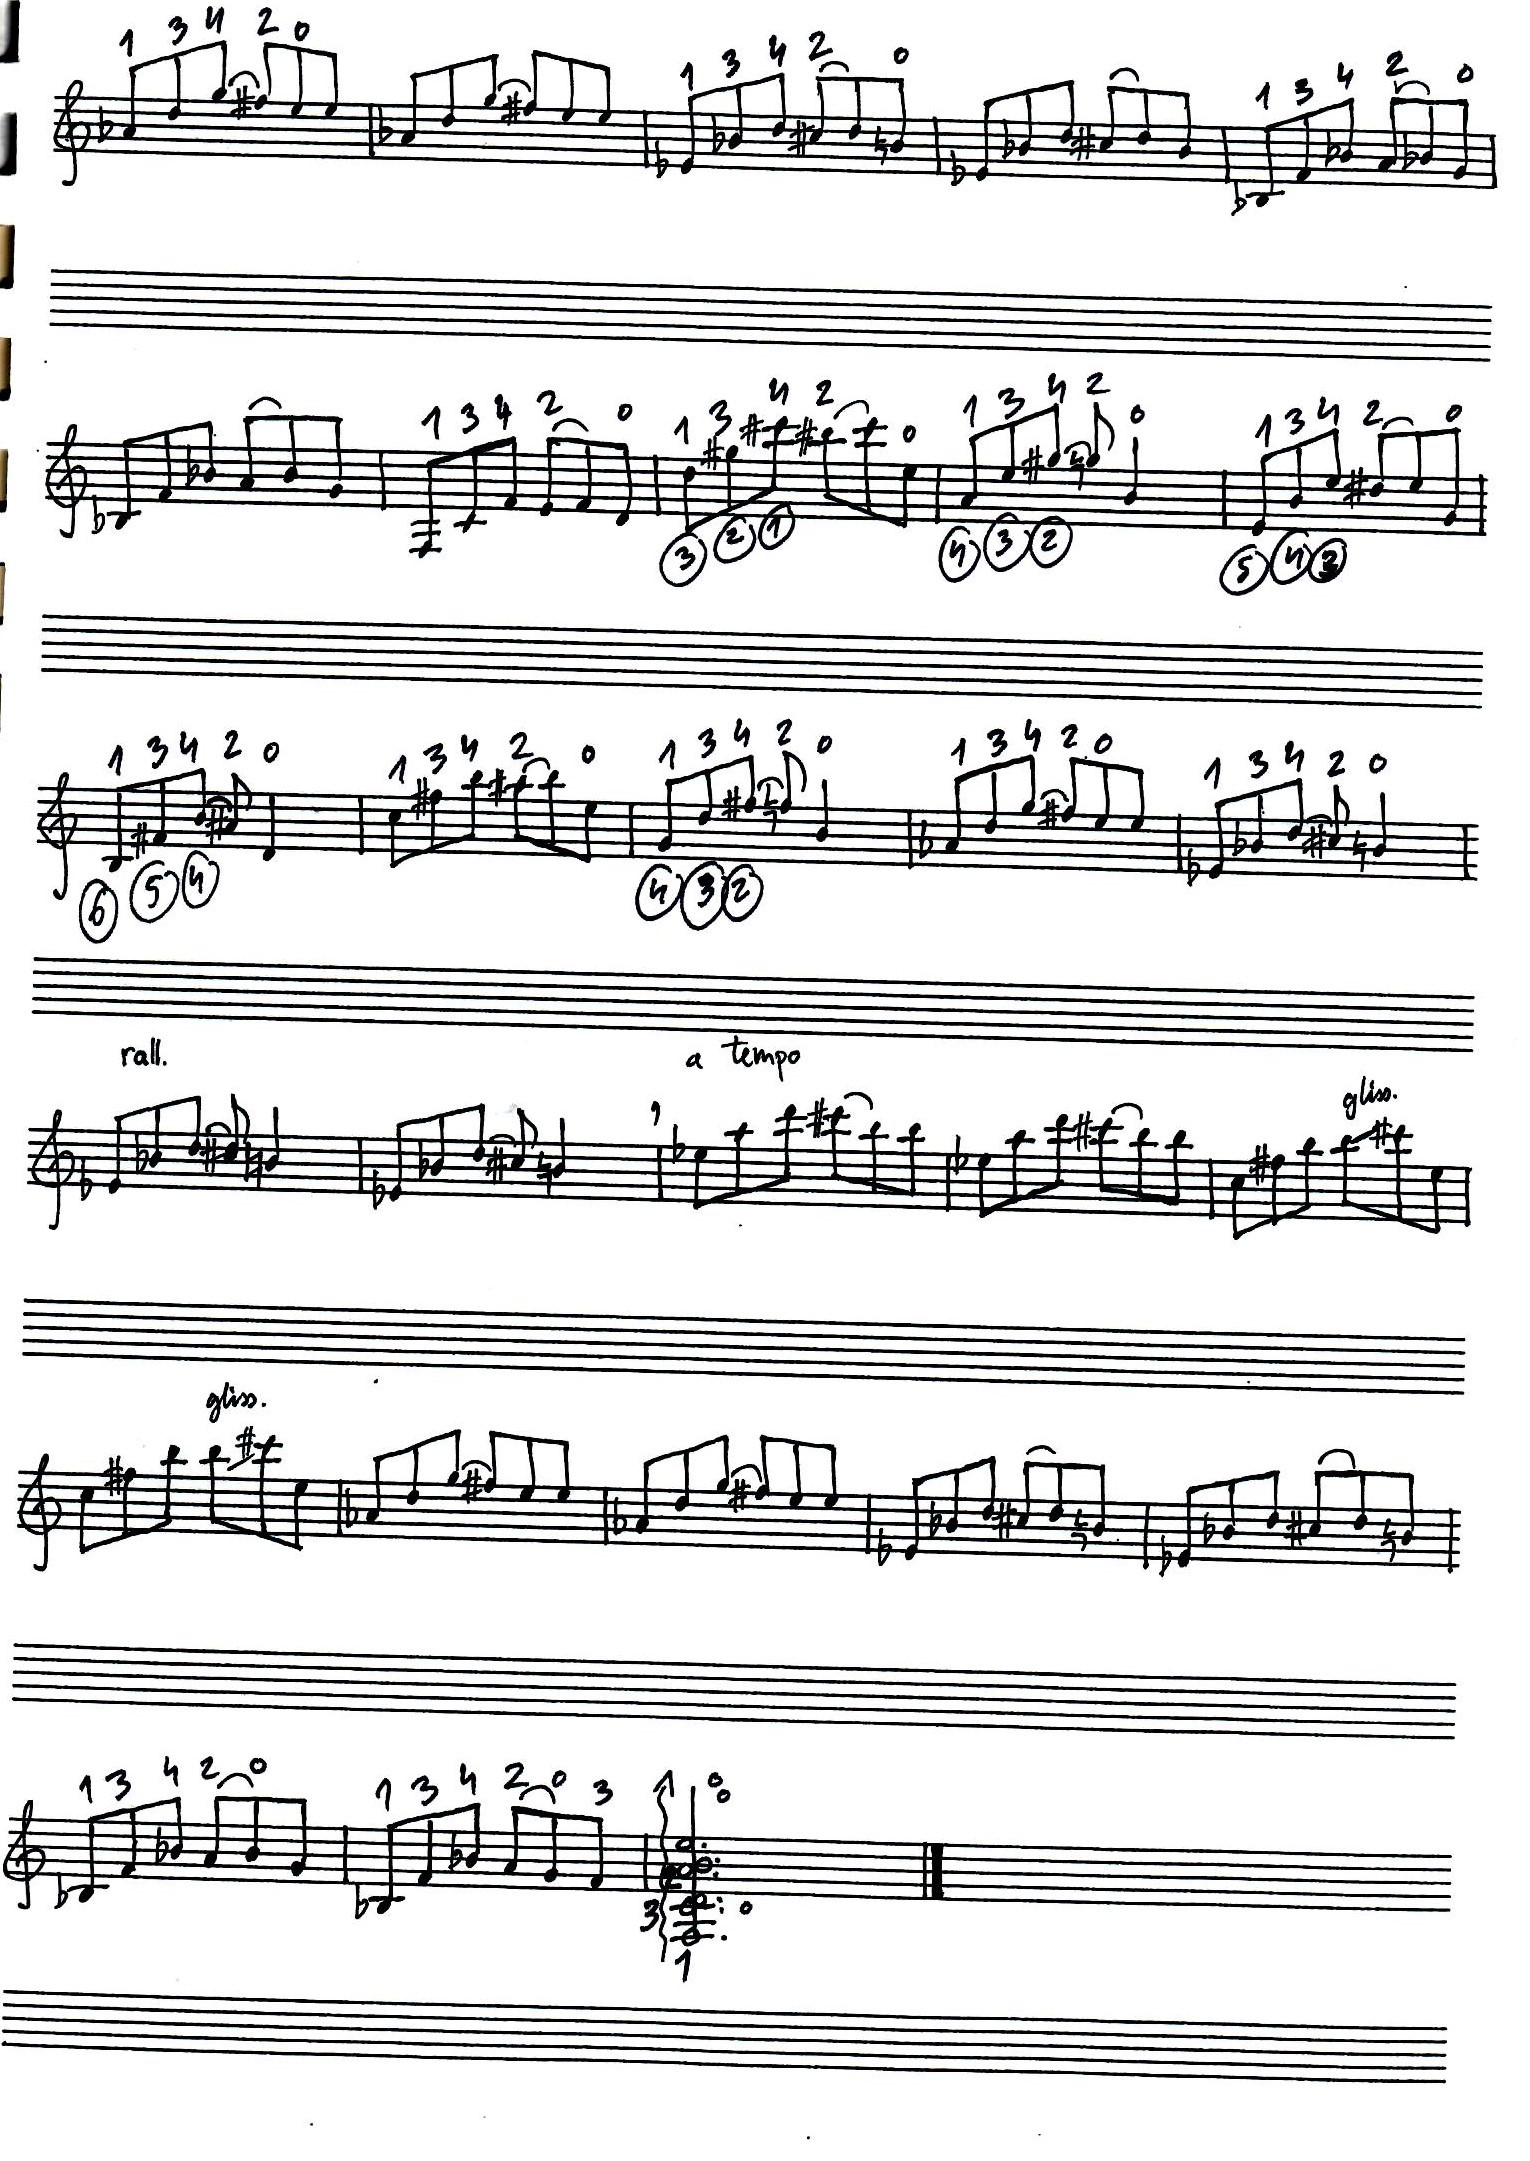Barline: (351, 1136, 369, 1199), (1167, 815, 1187, 869), (1459, 1166, 1475, 1229), (354, 790, 369, 859), (929, 116, 945, 177), (1459, 821, 1475, 883), (932, 464, 947, 530), (1204, 1156, 1219, 1222), (941, 1149, 954, 1215), (376, 450, 391, 508), (904, 805, 916, 878), (1219, 465, 1232, 528), (652, 454, 666, 515), (1220, 124, 1234, 184), (1477, 470, 1489, 538), (626, 795, 637, 859), (654, 1143, 666, 1202), (599, 1484, 609, 1553), (1447, 1500, 1455, 1581), (641, 108, 651, 171), (917, 1841, 927, 1903), (1143, 1504, 1151, 1571), (642, 1833, 651, 1894), (864, 1489, 871, 1558), (343, 1823, 349, 1888), (366, 103, 373, 161), (334, 1470, 339, 1545)
Beam: (1341, 1196, 1446, 1239), (686, 489, 778, 533), (127, 38, 232, 76), (825, 492, 907, 538), (977, 1179, 1066, 1219), (111, 767, 210, 801), (692, 1174, 790, 1209), (1230, 1202, 1318, 1240), (1262, 426, 1345, 465), (426, 434, 520, 469), (664, 752, 753, 788), (687, 73, 788, 104), (1210, 778, 1311, 810), (969, 406, 1058, 440), (391, 833, 475, 869), (513, 836, 598, 873), (1270, 98, 1354, 132), (982, 79, 1080, 109), (828, 1174, 917, 1206), (111, 1093, 199, 1124), (124, 416, 215, 445), (1091, 1182, 1187, 1210), (532, 51, 611, 84), (409, 53, 497, 83), (260, 38, 343, 70), (1065, 757, 1156, 783), (952, 753, 1037, 782), (396, 1103, 490, 1128), (242, 411, 349, 426), (543, 436, 633, 452), (811, 75, 911, 88), (1378, 427, 1464, 440), (1386, 96, 1474, 108), (1109, 88, 1192, 99)
Chord: (671, 1787, 710, 1952)
Dot: (715, 1898, 724, 1904), (719, 1908, 725, 1914), (714, 1871, 719, 1879), (720, 1936, 729, 1941), (700, 1843, 707, 1848), (715, 1858, 720, 1861)
Eighth-Note: (416, 457, 437, 560), (378, 1822, 401, 1916), (78, 1817, 103, 1904), (114, 436, 136, 530), (1086, 401, 1116, 469), (1444, 426, 1464, 525), (220, 1093, 248, 1162), (1177, 1482, 1199, 1571), (512, 1105, 540, 1172), (1255, 124, 1278, 205), (902, 1469, 922, 1563), (778, 750, 806, 816), (260, 1432, 277, 1542), (674, 1441, 699, 1514), (460, 444, 480, 533), (108, 785, 127, 874), (204, 1442, 224, 1530), (225, 772, 253, 833), (1454, 94, 1474, 180), (1391, 1123, 1407, 1225), (1378, 98, 1401, 171), (634, 1456, 656, 1533), (942, 1464, 965, 1535), (863, 417, 879, 517), (1252, 454, 1272, 537), (945, 773, 965, 854), (753, 1432, 777, 1502), (975, 106, 997, 180), (888, 76, 907, 156), (387, 1118, 406, 1204), (366, 1452, 387, 1525), (417, 1813, 439, 1886), (661, 773, 681, 851), (826, 1105, 846, 1182), (290, 1798, 310, 1876), (820, 1442, 843, 1509), (123, 61, 142, 137), (960, 432, 980, 508), (518, 1427, 538, 1504), (1321, 427, 1345, 492), (1326, 783, 1350, 848), (121, 1807, 142, 1876), (151, 773, 171, 848), (543, 768, 561, 849), (695, 763, 719, 826), (157, 422, 176, 502), (503, 434, 522, 513), (575, 440, 594, 513), (616, 447, 634, 527), (243, 1797, 265, 1863), (330, 421, 348, 498), (1008, 1128, 1027, 1206), (290, 1475, 308, 1553), (512, 773, 532, 845), (205, 1797, 225, 1868), (545, 1812, 565, 1883), (540, 432, 556, 517), (281, 414, 301, 484), (1306, 1469, 1326, 1538), (108, 1109, 124, 1192), (589, 1815, 608, 1889), (523, 50, 543, 118), (1061, 757, 1081, 825), (465, 1802, 485, 1870), (682, 94, 699, 174), (1368, 432, 1388, 498), (1209, 800, 1225, 879), (1300, 1133, 1316, 1212), (555, 1437, 575, 1504), (503, 1805, 523, 1871), (1099, 81, 1118, 152), (681, 465, 699, 537), (770, 414, 788, 485), (984, 763, 1002, 835), (977, 1151, 995, 1222), (788, 1437, 806, 1509), (1017, 1457, 1035, 1528), (484, 1426, 502, 1495), (783, 1103, 798, 1187), (1285, 777, 1305, 840), (255, 41, 273, 109), (729, 81, 747, 149), (1340, 94, 1358, 162), (1093, 762, 1111, 830), (431, 1109, 449, 1177), (907, 1119, 922, 1202), (1270, 1153, 1287, 1227), (1055, 1109, 1070, 1191), (1172, 1128, 1187, 1209), (901, 465, 919, 532), (187, 1085, 204, 1158), (402, 73, 419, 144), (1297, 109, 1313, 180), (1288, 444, 1306, 508), (581, 800, 599, 864), (171, 1797, 189, 1861), (1098, 1118, 1113, 1196), (123, 1469, 137, 1547), (1093, 1461, 1108, 1538), (810, 76, 826, 146), (240, 421, 257, 490), (846, 76, 864, 139), (1129, 768, 1147, 831), (1252, 787, 1268, 854), (1134, 88, 1154, 144), (869, 1118, 883, 1202), (1000, 421, 1018, 482), (1022, 753, 1040, 815), (470, 1101, 488, 1162), (734, 1121, 748, 1196), (1136, 1126, 1151, 1201), (561, 56, 578, 123), (1341, 1134, 1354, 1217), (406, 1441, 422, 1507), (386, 810, 404, 869), (715, 1432, 734, 1492), (984, 1451, 998, 1523), (770, 75, 787, 139), (1421, 101, 1437, 166), (1046, 404, 1063, 469), (1411, 429, 1427, 493), (1431, 1166, 1446, 1237), (79, 1487, 94, 1558), (164, 1442, 176, 1533), (212, 36, 229, 99), (149, 1103, 166, 1166), (1048, 1461, 1065, 1523), (167, 50, 182, 119), (469, 770, 484, 840), (1230, 1174, 1245, 1244), (724, 445, 740, 507), (1353, 1470, 1369, 1532), (1020, 88, 1035, 156), (204, 416, 219, 484), (325, 50, 339, 116), (598, 65, 614, 124), (1061, 78, 1076, 144), (1179, 91, 1194, 157), (192, 767, 209, 826), (1402, 1474, 1416, 1547), (442, 63, 457, 128), (694, 1144, 709, 1209), (1267, 1466, 1282, 1528), (429, 788, 444, 849), (1224, 1480, 1239, 1542), (291, 46, 305, 114), (445, 1427, 460, 1487), (821, 426, 833, 500), (484, 51, 498, 108), (743, 752, 757, 815)
Flat: (1225, 815, 1255, 864), (376, 94, 399, 147), (997, 118, 1022, 162), (71, 1154, 93, 1206), (947, 146, 969, 187), (1399, 128, 1419, 172), (132, 1129, 151, 1177), (366, 1166, 387, 1206), (876, 1523, 896, 1567), (444, 1831, 464, 1875), (709, 109, 725, 161), (926, 1495, 944, 1540), (1186, 840, 1204, 883), (609, 1495, 628, 1538), (1323, 126, 1341, 164), (952, 1133, 967, 1177), (151, 1828, 169, 1865), (671, 1119, 686, 1162), (344, 1484, 359, 1527), (417, 1136, 431, 1184), (93, 493, 108, 535), (185, 445, 199, 492), (98, 106, 114, 142), (654, 134, 667, 177), (1230, 180, 1245, 215), (354, 1878, 368, 1916), (1159, 1533, 1171, 1575), (1202, 1512, 1215, 1547)
G-Clef: (30, 1109, 76, 1230), (38, 772, 78, 899), (20, 1452, 61, 1571), (46, 422, 88, 537), (3, 1800, 45, 1913), (53, 78, 93, 185)
Quarter-Note: (1123, 436, 1143, 507), (1373, 790, 1391, 858), (815, 777, 833, 841), (263, 795, 280, 861)
Sharp: (1340, 460, 1368, 513), (1298, 826, 1335, 863), (1068, 1109, 1098, 1151), (484, 767, 512, 810), (204, 801, 230, 846), (1285, 1504, 1311, 1548), (992, 1499, 1018, 1542), (455, 1469, 485, 1507), (129, 815, 152, 863), (805, 1091, 828, 1139), (1368, 1113, 1394, 1154), (484, 1148, 512, 1186), (1071, 126, 1098, 166), (407, 777, 431, 821), (1249, 1144, 1273, 1186), (739, 409, 765, 447), (1022, 445, 1046, 485), (199, 1139, 222, 1181), (788, 119, 815, 154), (498, 94, 523, 131), (697, 436, 720, 474), (720, 785, 745, 820), (729, 1479, 753, 1514), (795, 416, 816, 455), (103, 1456, 123, 1499), (233, 1424, 255, 1462), (1038, 797, 1061, 831), (230, 88, 253, 119)
Tie-Slur: (220, 68, 262, 94), (243, 391, 285, 412), (720, 1462, 763, 1482), (1394, 78, 1432, 98), (195, 1119, 237, 1138), (835, 401, 869, 422), (844, 1086, 873, 1113), (1037, 783, 1073, 803), (1315, 1447, 1354, 1466), (219, 1774, 257, 1792), (550, 417, 588, 436), (520, 755, 550, 778), (1022, 1441, 1058, 1459), (518, 1785, 555, 1803), (1109, 1100, 1143, 1119), (1104, 66, 1144, 83), (752, 773, 787, 792), (204, 795, 233, 815), (815, 61, 854, 76), (1381, 412, 1416, 429), (488, 1131, 520, 1149), (459, 1457, 490, 1475), (497, 79, 532, 94), (1066, 437, 1090, 459), (1303, 810, 1331, 826)
